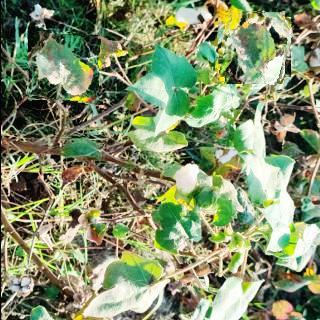blight: (217, 10, 290, 84), (26, 31, 98, 103)
